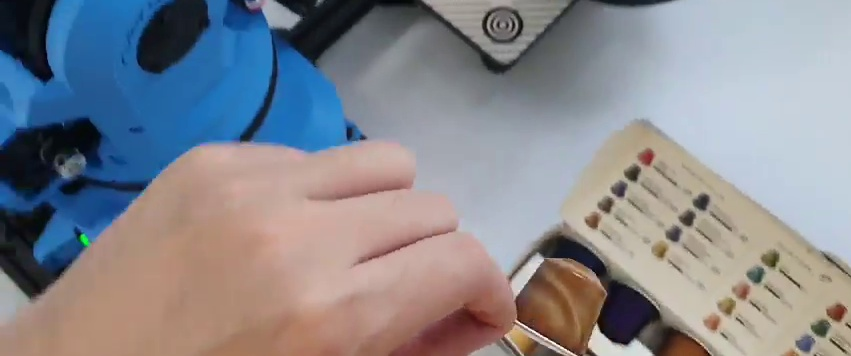capsule_12: (503, 255, 611, 356)
